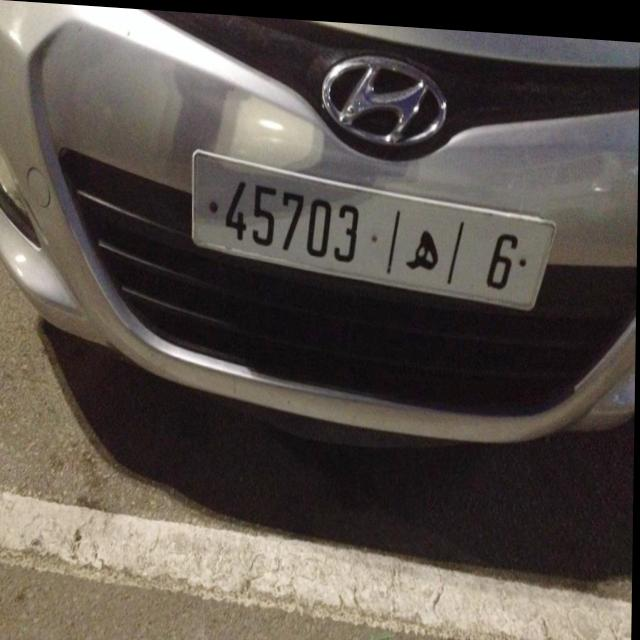License-Plate: (192, 147, 557, 302)
